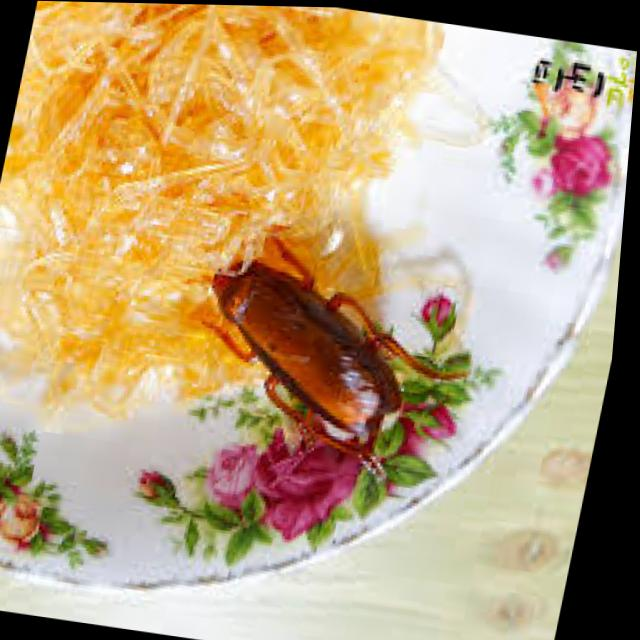Cockroach: (146, 193, 511, 531)
